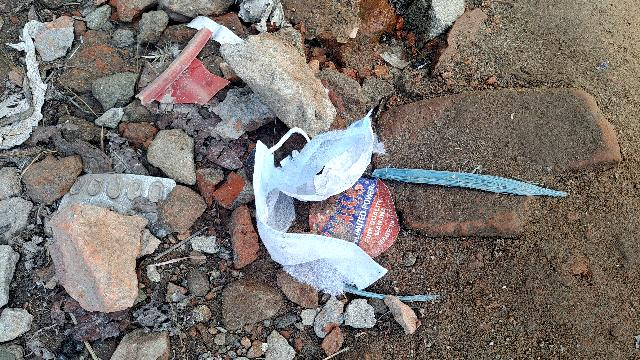mask: (249, 110, 387, 294)
